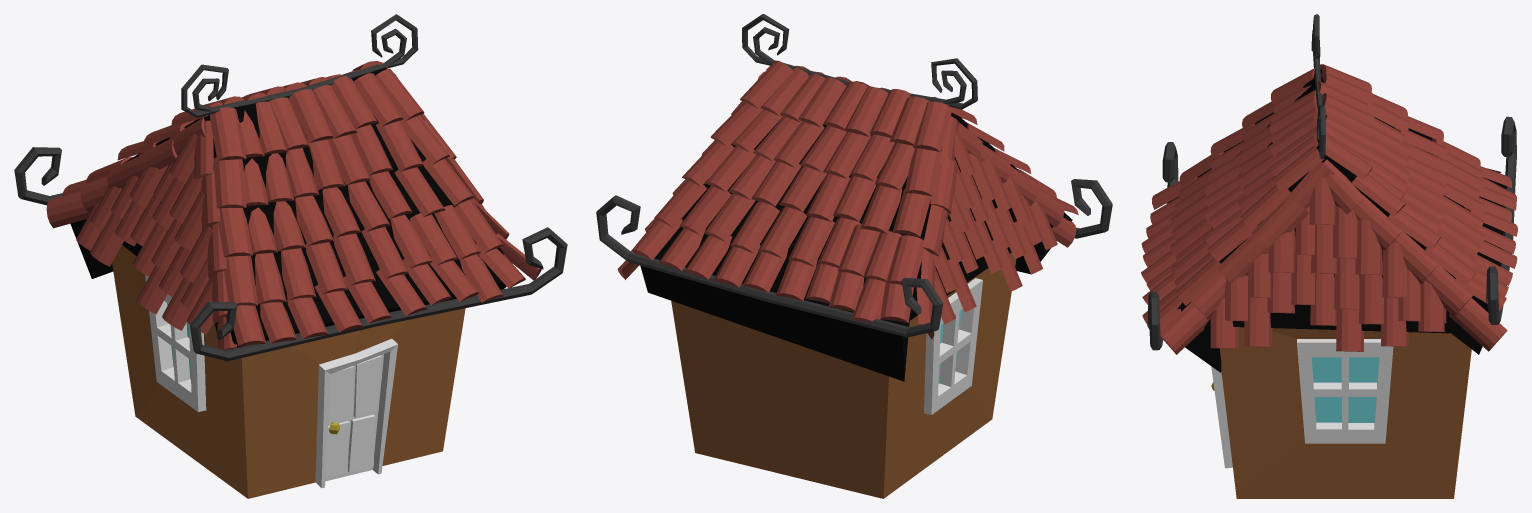
File: house.fbx
3 views of the same model, side by side, from view 1: azimuth 30°, elevation 25°; view 2: azimuth 150°, elevation 25°; view 3: azimuth 270°, elevation 25° (orthographic). The views are drawn at different scales.
Parts seen in each view (by area): view 1: Cube.206, Cube.207; view 2: Cube.206, Cube.207; view 3: Cube.206, Cube.207.
Part boxes in pixels (box(x1,y1,x2,y2)): Cube.206: box(14, 14, 567, 361); Cube.207: box(112, 245, 465, 498); Cube.206: box(596, 14, 1112, 381); Cube.207: box(671, 252, 1016, 498); Cube.206: box(1141, 14, 1517, 372); Cube.207: box(1211, 327, 1471, 498).
Size of the model in its own units: 22.56 by 23.93 by 20.84.
